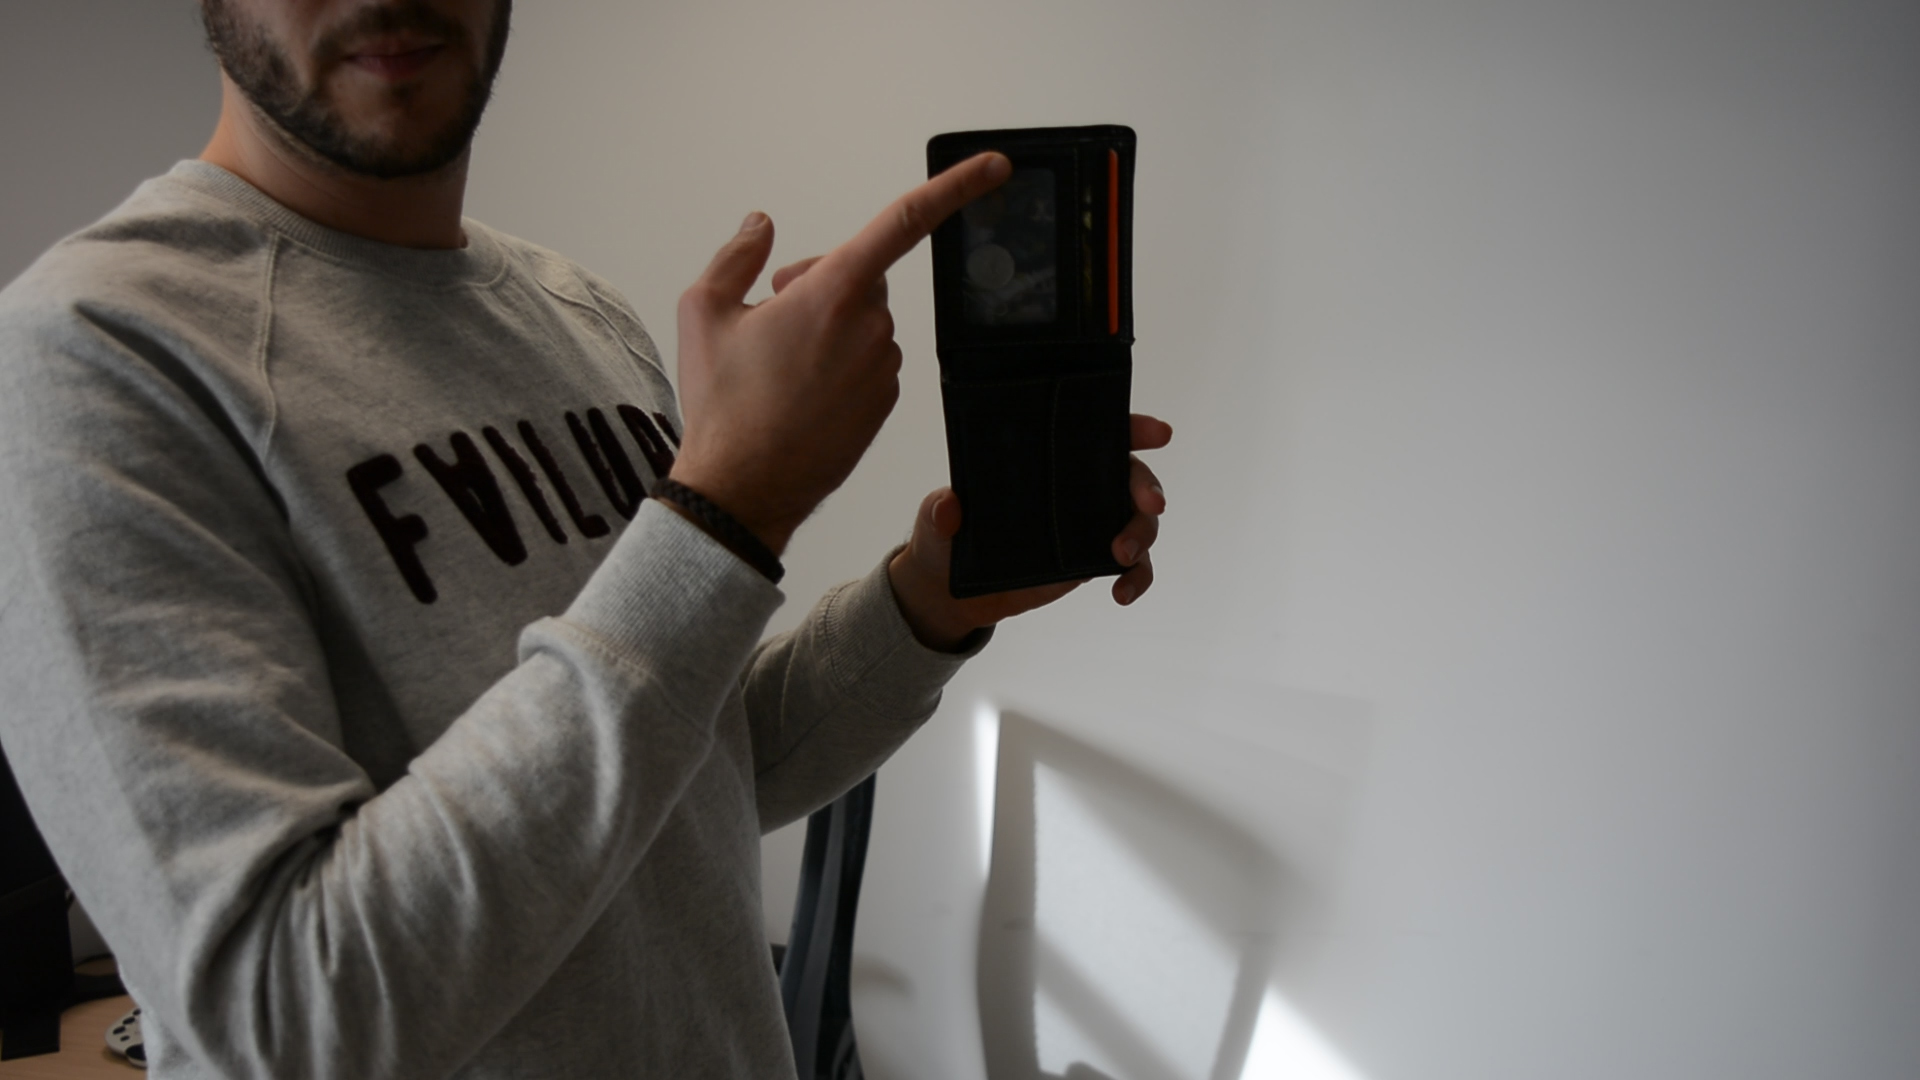monedero: (924, 123, 1145, 603)
